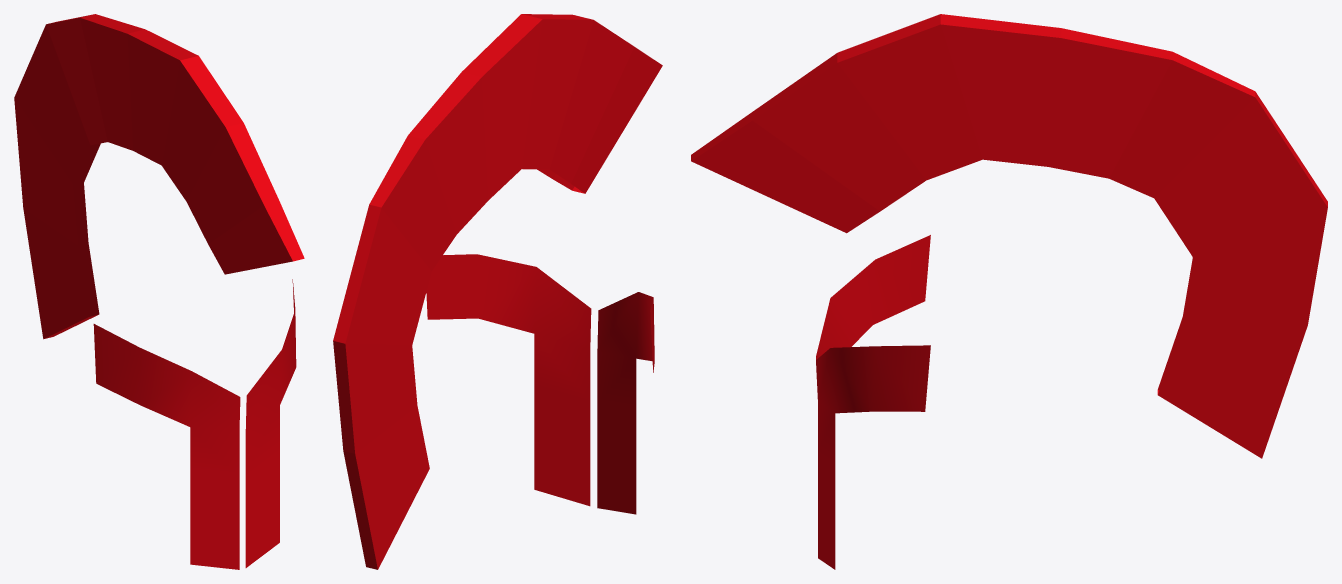
Rendered from BossAcc.fbx.
3 renders of one model, left to right at view 1: azimuth 30°, elevation 25°; view 2: azimuth 150°, elevation 25°; view 3: azimuth 270°, elevation 25°, orthographic. The views are drawn at different scales.
Visible parts, largest first — view 1: Plane.001, Plane.002; view 2: Plane.001, Plane.002; view 3: Plane.001, Plane.002.
Part boxes in pixels (x1,y1,x2,y2): Plane.001: (14,14,304,339); Plane.002: (93,279,296,569); Plane.001: (333,14,662,569); Plane.002: (426,254,654,514); Plane.001: (691,14,1327,458); Plane.002: (816,235,930,569).
Bounding box in the file's own units: 52.63 × 119 × 128.
